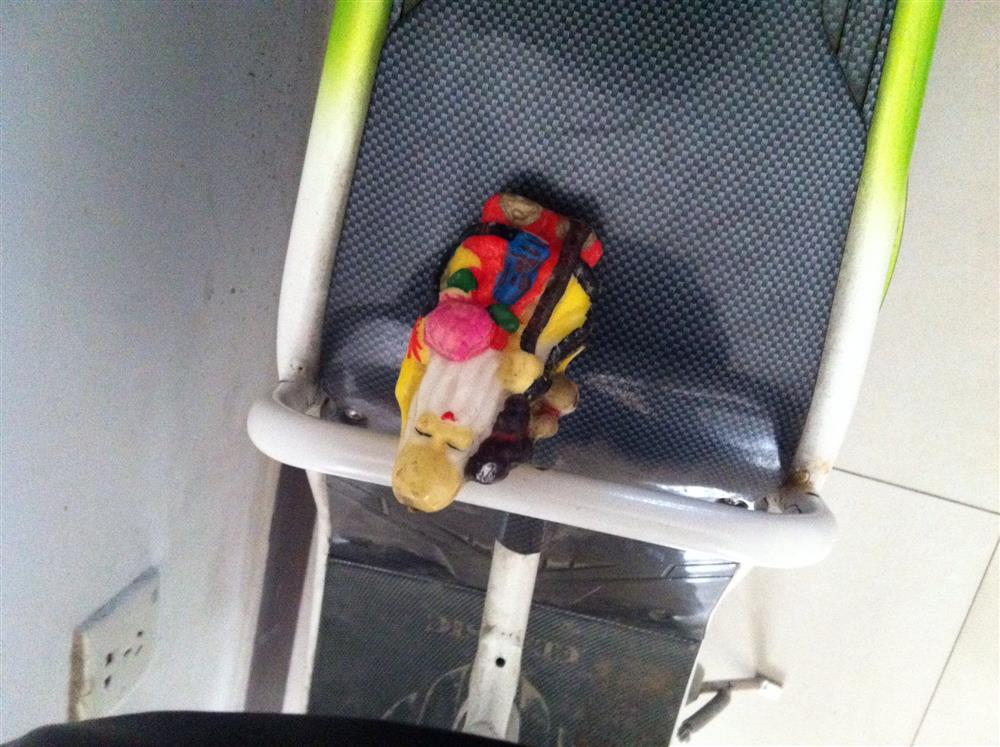oldman_candle: (390, 188, 603, 515)
